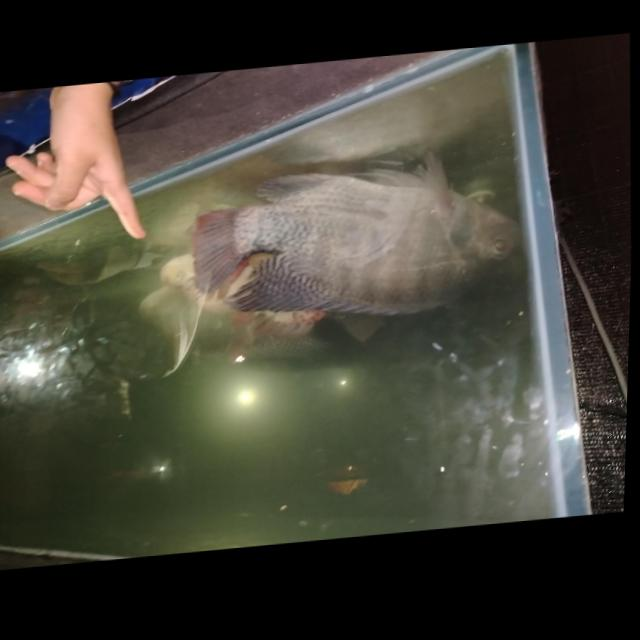Tilapia: (182, 141, 525, 333)
